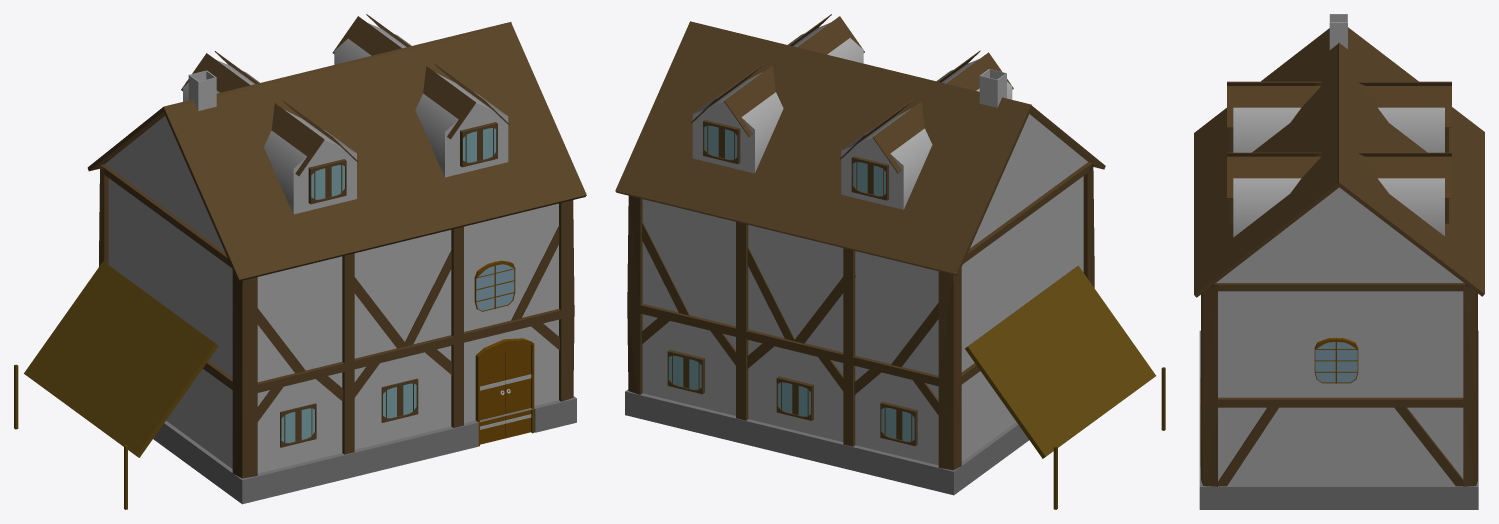
The model's file is House3.fbx.
The picture shows the model from 3 angles, left to right: view 1: azimuth 30°, elevation 25°; view 2: azimuth 150°, elevation 25°; view 3: azimuth 270°, elevation 25°; orthographic projection. The views are drawn at different scales.
Visible parts, largest first — view 1: pCube30, pCube29, pCube32, pCube31, pCube7, pCube25, pCube13, pCube23, pCube20, pCube28, House2:pasted__pCube51, pCube19 (+8 smaller); view 2: pCube30, pCube28, pCube32, pCube31, pCube25, pCube13, pCube23, pCube20, pCube49, pCube48, pCube47, pCube21 (+7 smaller); view 3: pCube30, pCube28, pCube29, pCube31, pCube25, pCube13, pCube26, pCube15, pasted__pCube51, pCube44, pCube43, pCube20 (+2 smaller).
Part boxes in pixels (x1=…): pCube30: x1=99, y1=116, x2=574, y2=478; pCube29: x1=162, y1=24, x2=586, y2=281; pCube32: x1=24, y1=261, x2=218, y2=457; pCube31: x1=153, y1=396, x2=576, y2=504; pCube7: x1=475, y1=338, x2=534, y2=446; pCube25: x1=334, y1=23, x2=508, y2=177; pCube13: x1=183, y1=60, x2=356, y2=214; pCube23: x1=332, y1=16, x2=476, y2=139; pCube20: x1=181, y1=53, x2=324, y2=176; pCube28: x1=87, y1=22, x2=511, y2=171; House2:pasted__pCube51: x1=474, y1=260, x2=515, y2=311; pCube19: x1=308, y1=159, x2=346, y2=204; pCube30: x1=627, y1=114, x2=1094, y2=470; pCube28: x1=615, y1=21, x2=1032, y2=275; pCube32: x1=965, y1=265, x2=1155, y2=458; pCube31: x1=625, y1=389, x2=1028, y2=495; pCube25: x1=692, y1=22, x2=863, y2=173; pCube13: x1=841, y1=59, x2=1012, y2=209; pCube23: x1=724, y1=16, x2=864, y2=136; pCube20: x1=872, y1=52, x2=1013, y2=173; pCube49: x1=880, y1=401, x2=917, y2=446; pCube48: x1=667, y1=349, x2=704, y2=394; pCube47: x1=776, y1=376, x2=813, y2=420; pCube21: x1=851, y1=156, x2=888, y2=200; pCube30: x1=1201, y1=187, x2=1477, y2=486; pCube28: x1=1337, y1=27, x2=1484, y2=296; pCube29: x1=1194, y1=28, x2=1341, y2=297; pCube31: x1=1199, y1=330, x2=1478, y2=509; pCube25: x1=1233, y1=178, x2=1444, y2=237; pCube13: x1=1233, y1=107, x2=1444, y2=152; pCube26: x1=1227, y1=156, x2=1451, y2=198; pCube15: x1=1227, y1=86, x2=1451, y2=127; pasted__pCube51: x1=1314, y1=337, x2=1358, y2=383; pCube44: x1=1394, y1=407, x2=1463, y2=486; pCube43: x1=1218, y1=407, x2=1278, y2=486; pCube20: x1=1227, y1=81, x2=1451, y2=85.
Size of the model in its own units: 85.43 by 68.91 by 51.71.
